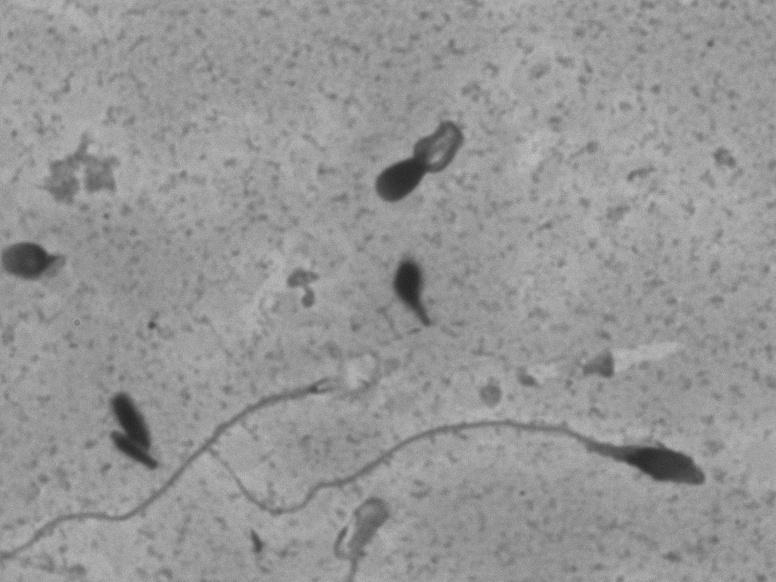Abnormal: (208, 392, 737, 560)
